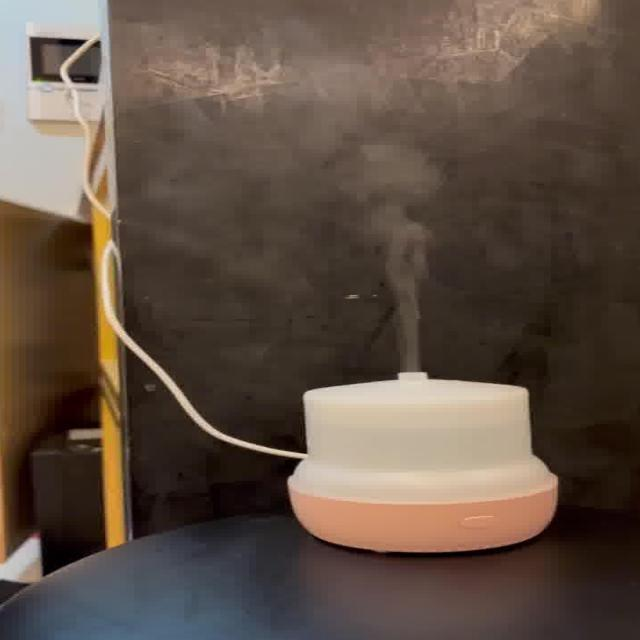fire: (185, 100, 442, 370)
